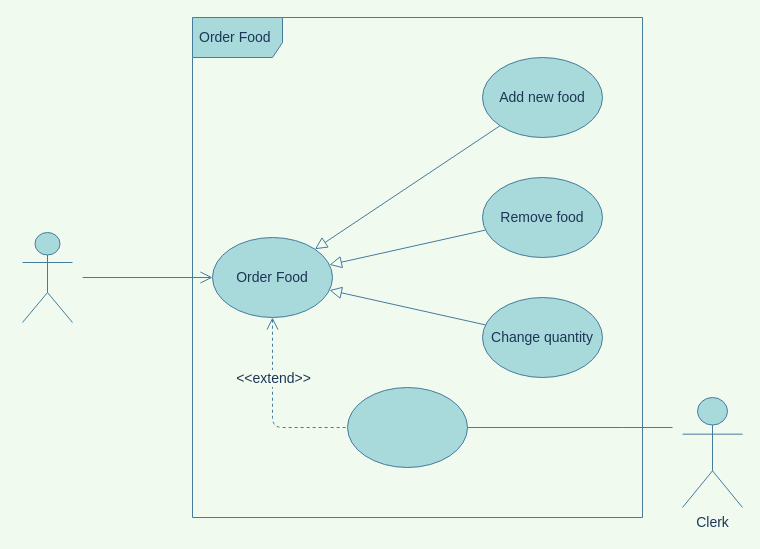
Image size: 760x549. Some labels were removed from this diagram. Each missing label, with the centre of its shape:
"Confirm Order" goes at (407,427).
"Customer" goes at (47,277).
